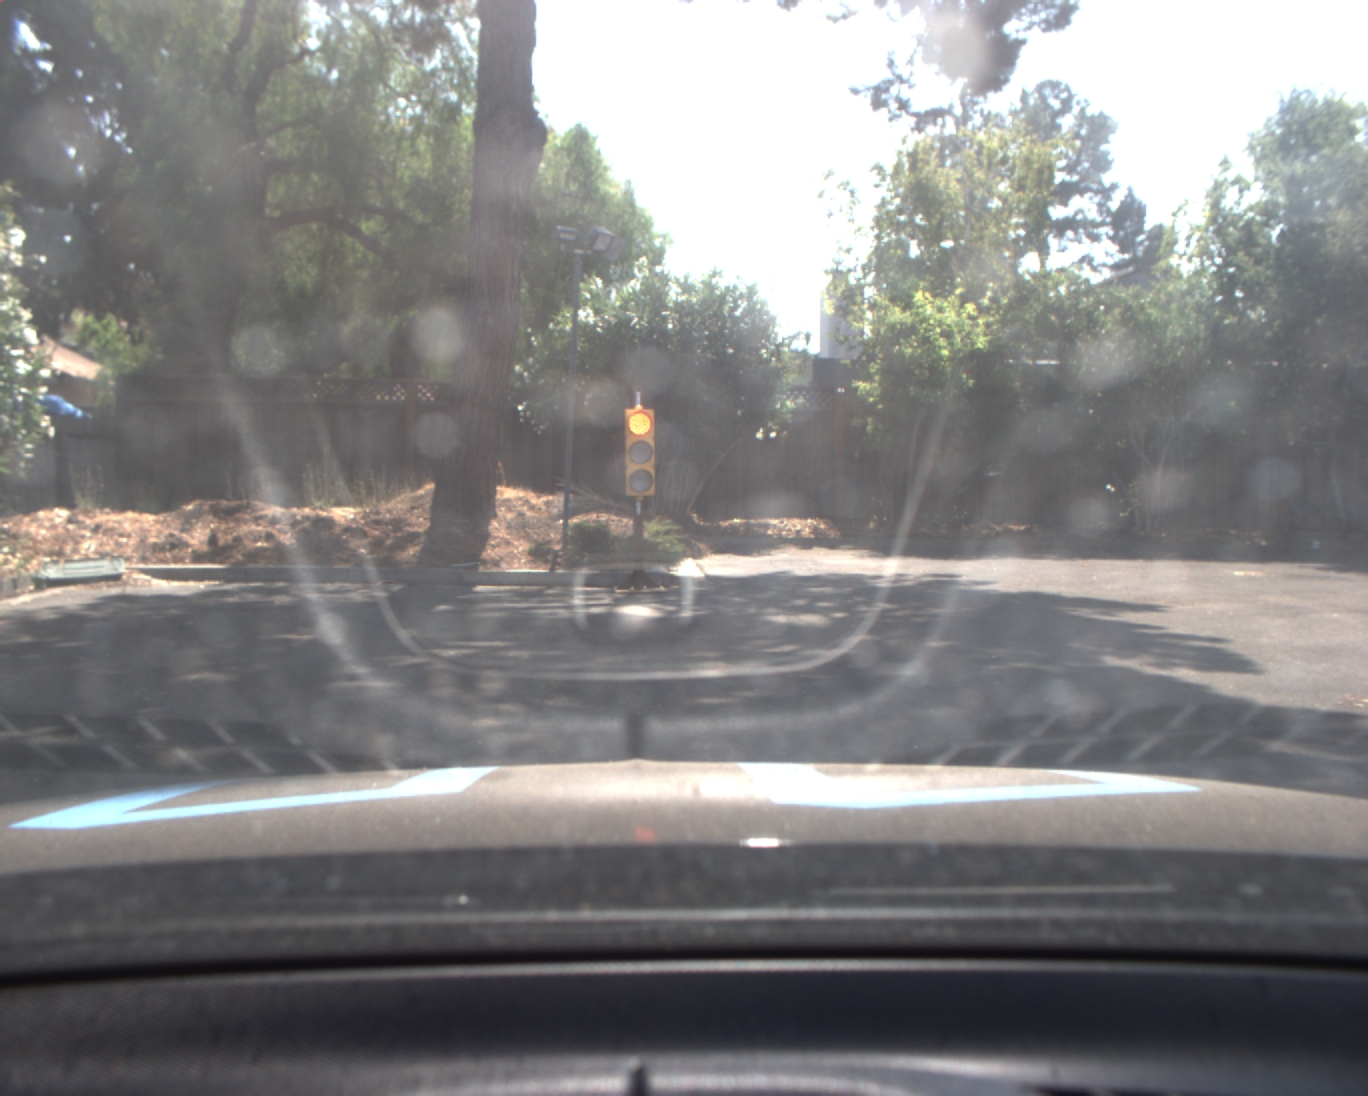red: (621, 405, 660, 499)
